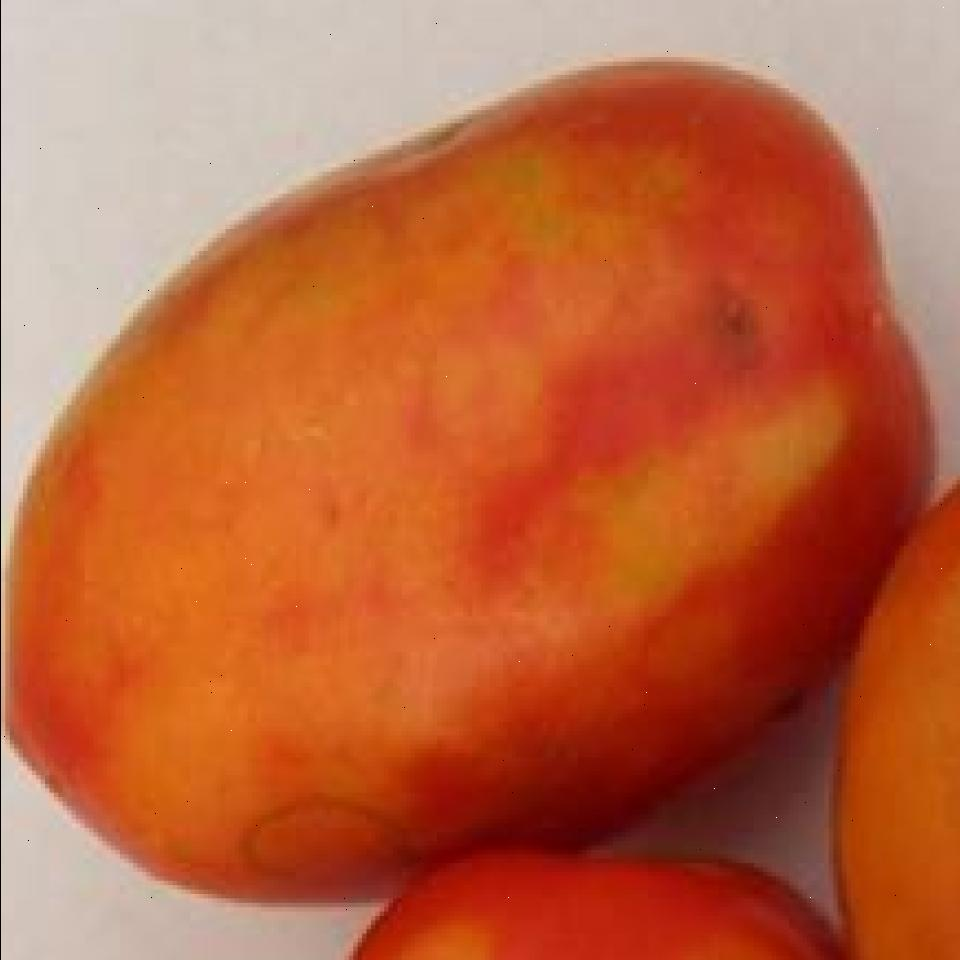Spotted wilt Virus: (3, 57, 941, 910)
